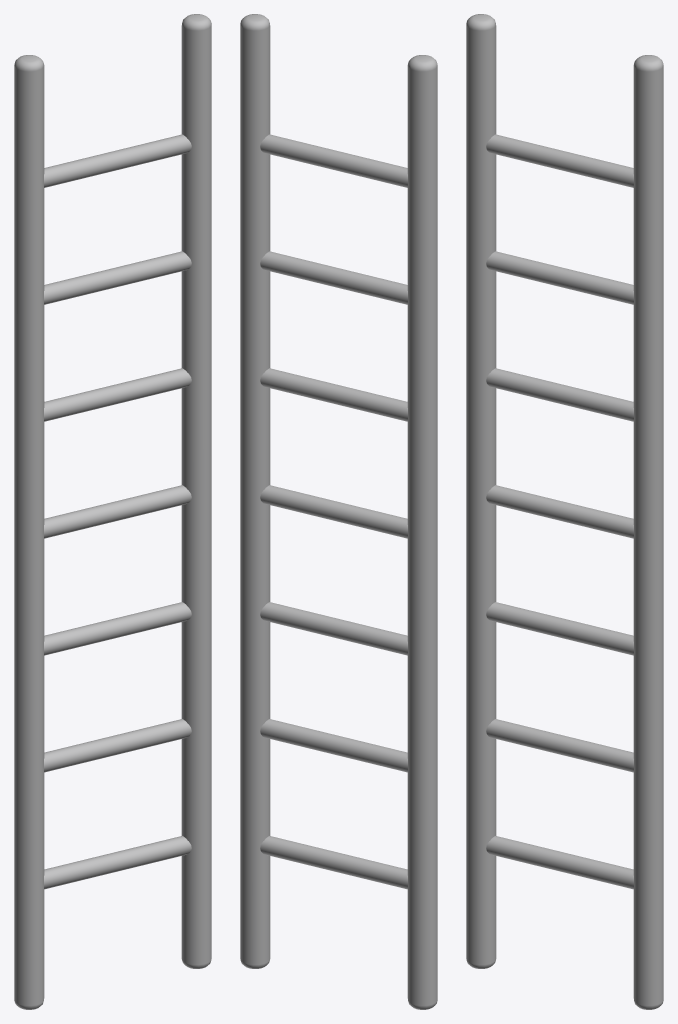
The model's file is City_13_Stairs_1.glb.
The picture shows the model from 3 angles, left to right: view 1: azimuth 30°, elevation 25°; view 2: azimuth 150°, elevation 25°; view 3: azimuth 330°, elevation 25°; orthographic projection.
Parts seen in each view (by area): view 1: City_13_Stairs_1; view 2: City_13_Stairs_1; view 3: City_13_Stairs_1.
Part boxes in pixels (x1,y1,x2,y2): City_13_Stairs_1: [14, 14, 211, 1009]; City_13_Stairs_1: [240, 14, 437, 1009]; City_13_Stairs_1: [466, 14, 663, 1009].
Bounding box in the file's own units: 0.6936 × 3.24 × 0.0936.
1 material, 1 textured.
